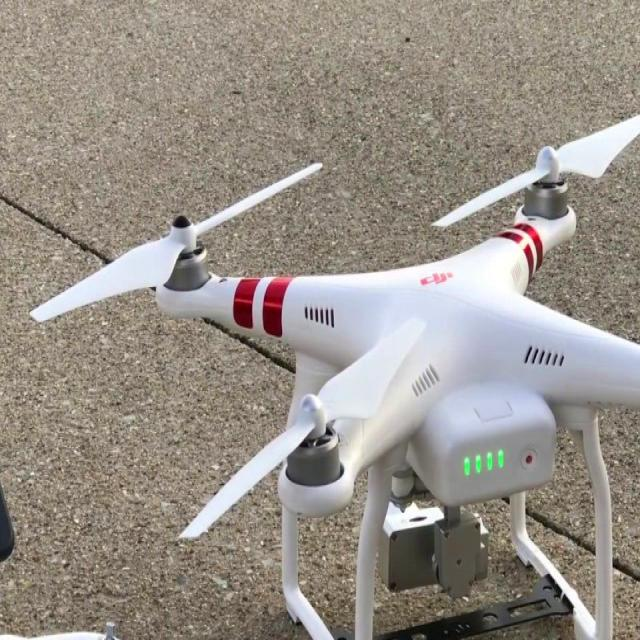drone: (43, 105, 640, 640)
